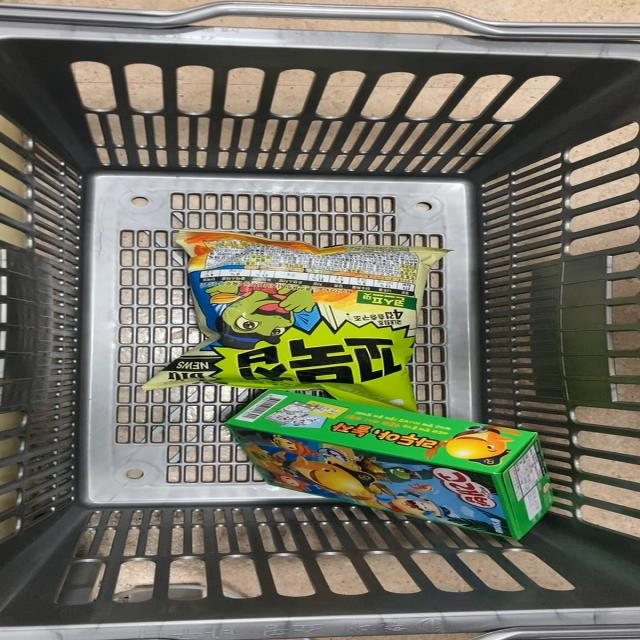ggobukchip: (159, 225, 449, 395)
goraebob: (236, 394, 583, 543)
